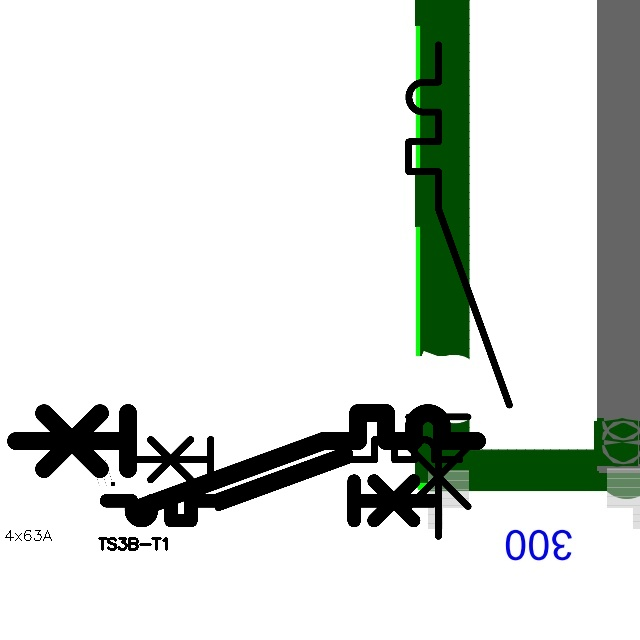interruptor_termomagnetico: (396, 32, 522, 549), (4, 401, 489, 520), (122, 431, 468, 515), (98, 445, 442, 529)
